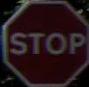Stop: (5, 2, 86, 79)
